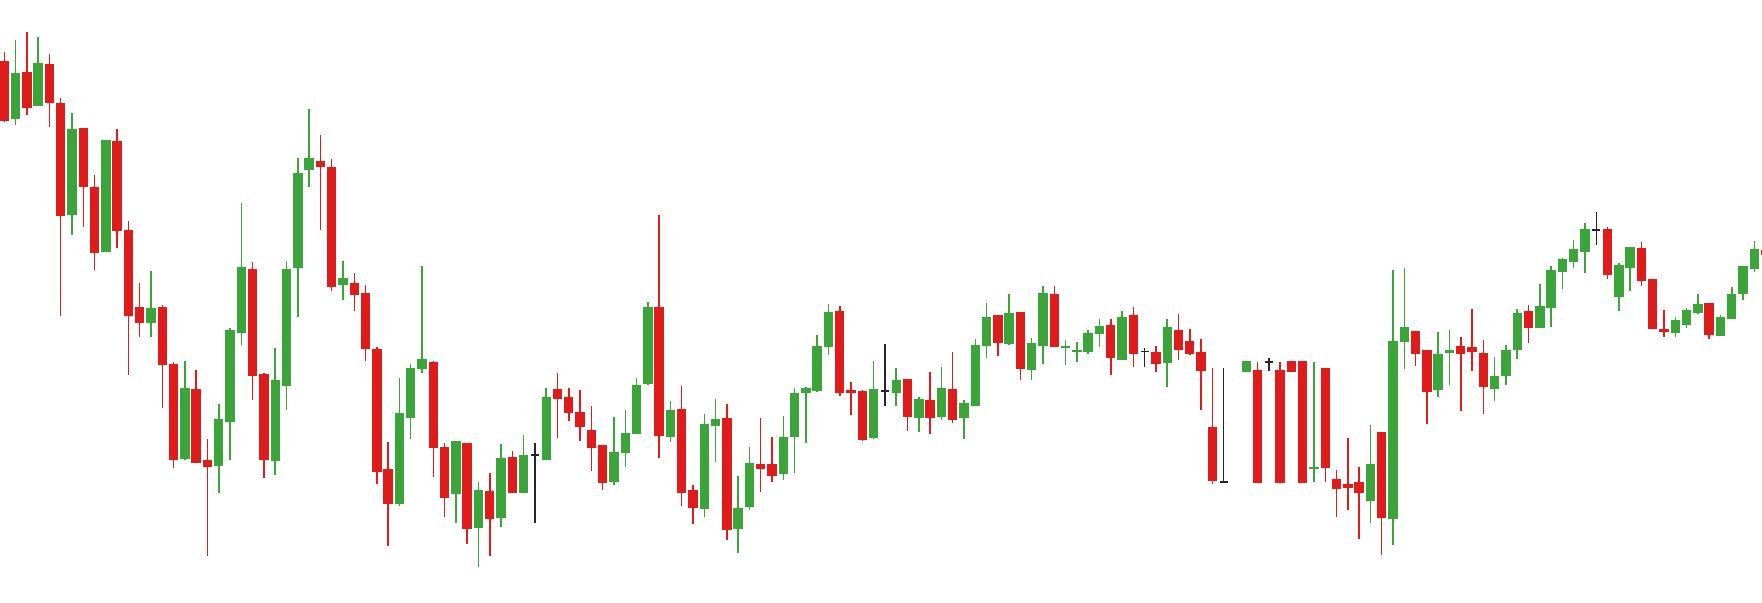buy: (257, 328, 405, 551)
sell: (414, 217, 669, 406), (233, 109, 337, 276)
